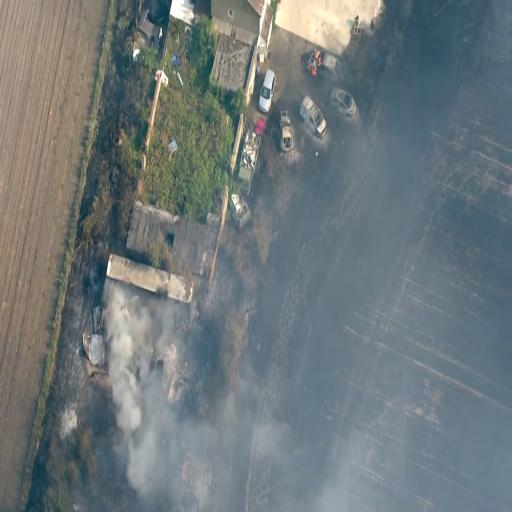smoke: (105, 354, 149, 447), (100, 293, 149, 364)
